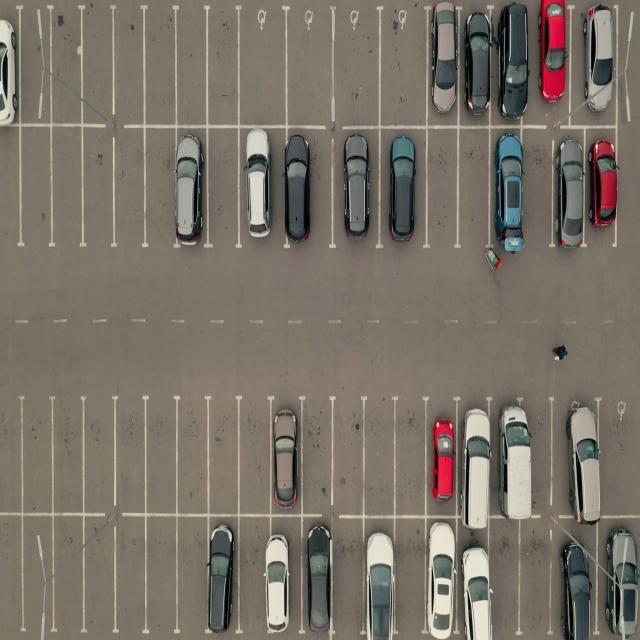space-empty: (238, 8, 289, 126), (377, 7, 425, 128), (287, 10, 337, 126), (333, 8, 380, 126), (45, 516, 87, 633), (515, 129, 555, 250), (46, 5, 85, 126), (48, 127, 86, 250), (15, 126, 52, 251), (142, 6, 180, 127), (205, 127, 242, 248), (77, 4, 114, 125), (601, 402, 640, 516), (175, 7, 212, 127), (78, 131, 115, 251), (113, 5, 150, 125), (16, 399, 54, 515), (78, 399, 116, 515), (205, 7, 242, 126), (141, 130, 177, 250), (112, 131, 148, 251), (49, 400, 86, 516), (143, 396, 180, 512), (458, 128, 493, 250), (177, 397, 214, 512), (115, 396, 152, 511), (79, 515, 115, 633), (17, 515, 53, 633), (142, 517, 178, 633), (359, 398, 395, 514), (239, 396, 275, 512), (520, 521, 556, 637), (235, 397, 271, 512), (115, 516, 150, 633), (205, 396, 240, 512), (331, 397, 366, 512), (394, 398, 428, 515), (177, 517, 211, 634), (424, 126, 457, 246), (302, 397, 337, 510), (396, 519, 429, 638), (332, 521, 366, 636), (298, 398, 332, 512), (15, 8, 48, 124), (524, 126, 555, 248), (488, 518, 520, 636), (0, 514, 24, 633), (0, 396, 23, 516), (0, 127, 22, 251)
space-occupied: (240, 514, 302, 634), (488, 128, 544, 252), (282, 130, 331, 251), (552, 394, 599, 518), (491, 395, 537, 516), (333, 130, 379, 249), (237, 124, 282, 245), (382, 125, 428, 243), (378, 130, 424, 248), (574, 2, 618, 124), (241, 129, 285, 249), (579, 4, 622, 124), (551, 530, 596, 639), (260, 513, 300, 634), (489, 128, 527, 252), (601, 518, 640, 637), (534, 1, 572, 123), (459, 396, 496, 517), (425, 7, 461, 126), (493, 5, 529, 124), (459, 518, 493, 638), (269, 396, 304, 512), (424, 518, 458, 637), (424, 398, 458, 516), (177, 130, 210, 251), (362, 517, 395, 638), (554, 130, 587, 247), (463, 8, 495, 125), (207, 516, 238, 632), (588, 131, 620, 243), (303, 522, 334, 634), (299, 522, 330, 634), (585, 128, 615, 239), (1, 7, 22, 124)
